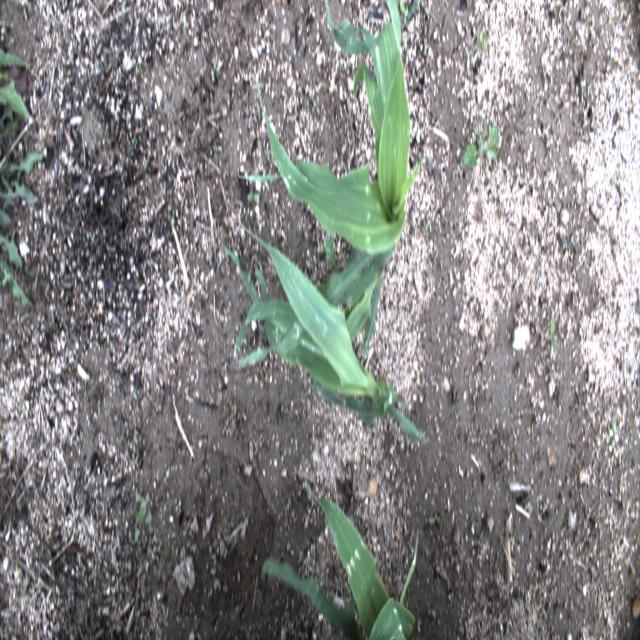crop: (231, 0, 426, 366), (221, 224, 429, 446), (263, 495, 419, 638)
weed: (0, 49, 46, 308), (459, 110, 501, 182), (135, 490, 151, 542), (158, 539, 180, 563), (549, 313, 558, 358), (609, 421, 617, 448), (144, 534, 153, 556), (246, 192, 260, 204), (142, 523, 154, 536), (428, 516, 440, 525)
